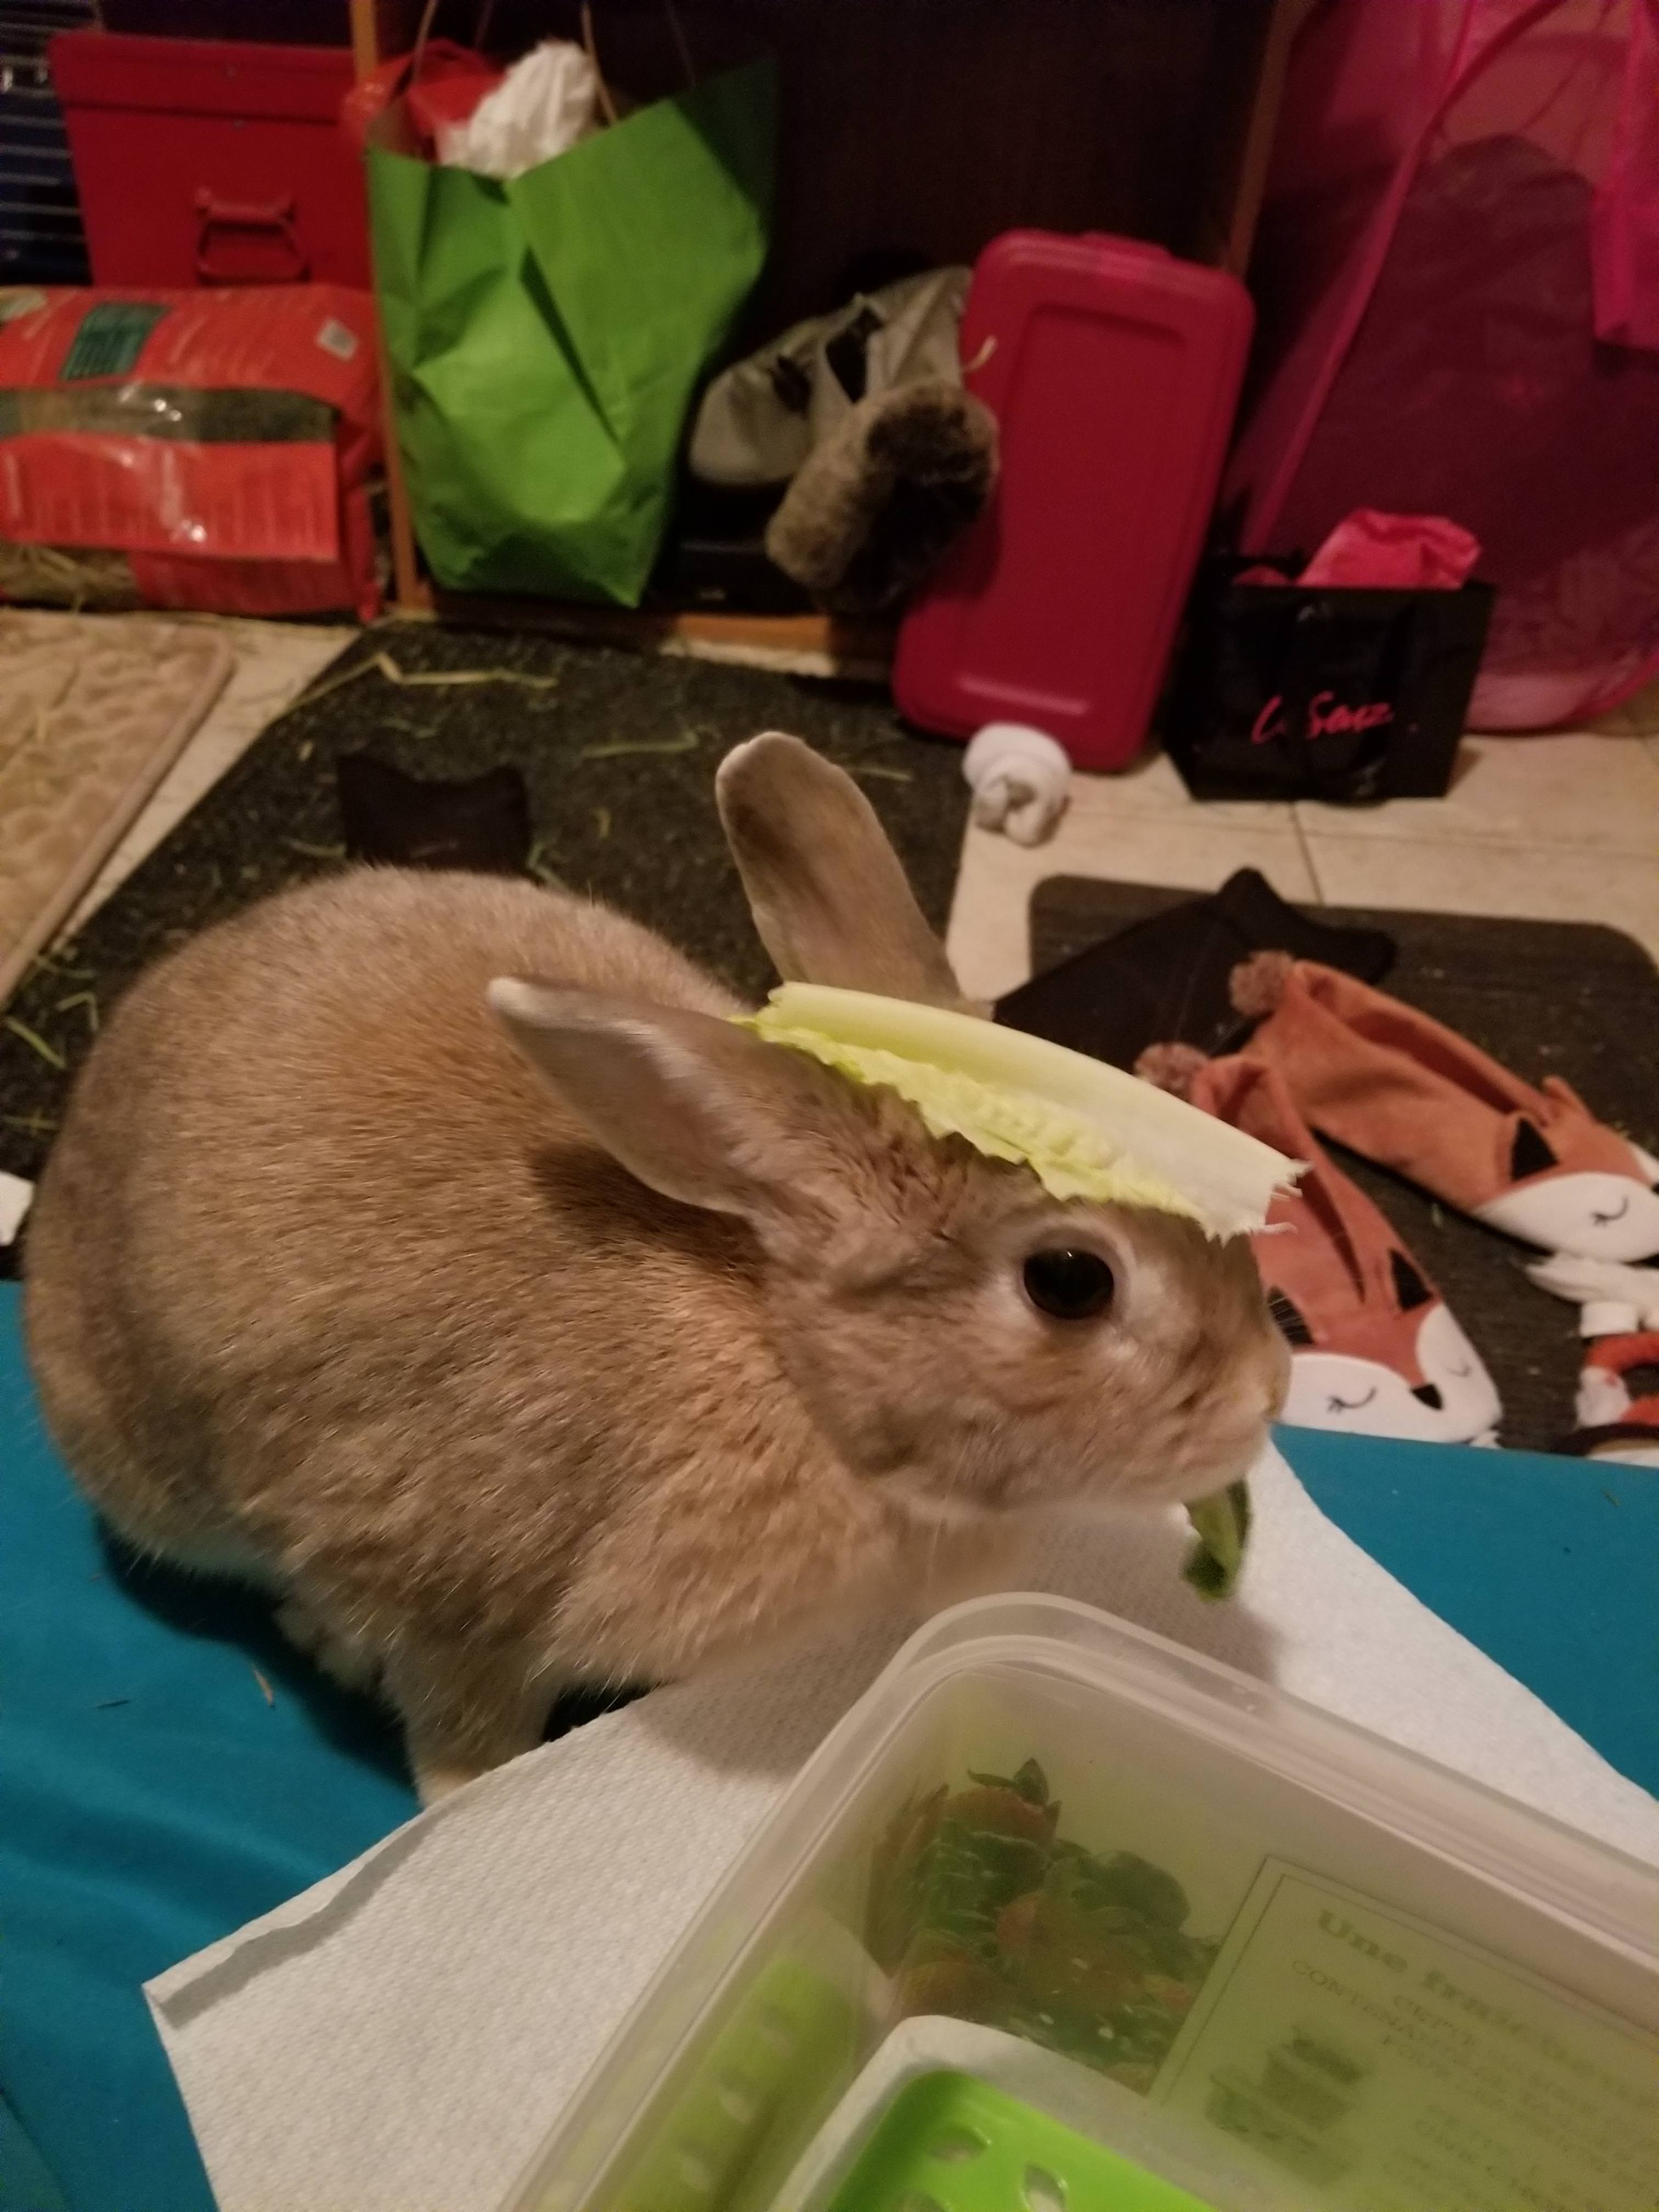bunny: (26, 686, 1351, 1855)
